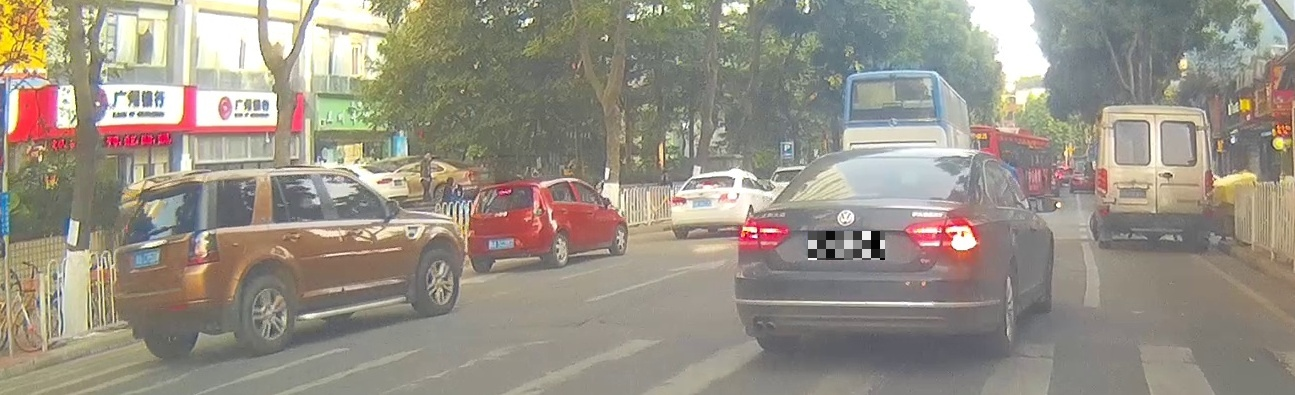L_light: (736, 217, 792, 250), (114, 248, 127, 273), (1096, 168, 1107, 197), (469, 206, 477, 217)
R_light: (903, 215, 980, 254), (186, 228, 220, 267), (1204, 170, 1214, 196), (531, 200, 544, 216)
T_light: (836, 194, 870, 201), (495, 188, 512, 196), (160, 190, 179, 195), (1146, 112, 1163, 116)
day-brake: (466, 181, 553, 274)
day-no: (114, 174, 223, 358), (1094, 104, 1215, 249)
day-right: (733, 145, 981, 352)
plate_1: (808, 231, 885, 260)
